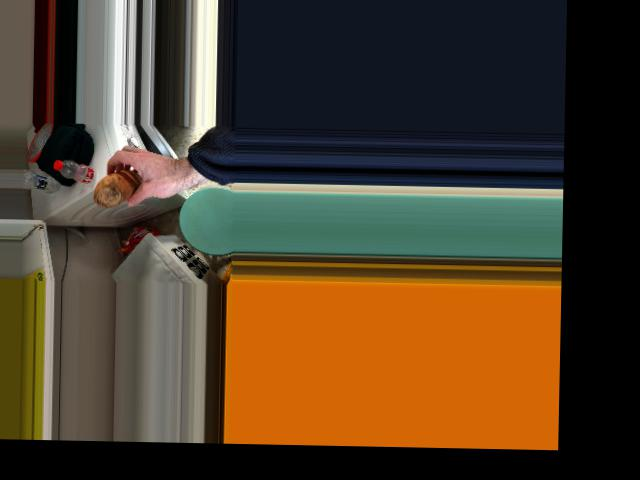sweet_potato: (93, 166, 143, 208)
